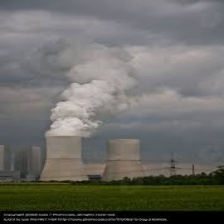smoke: (41, 37, 140, 136)
